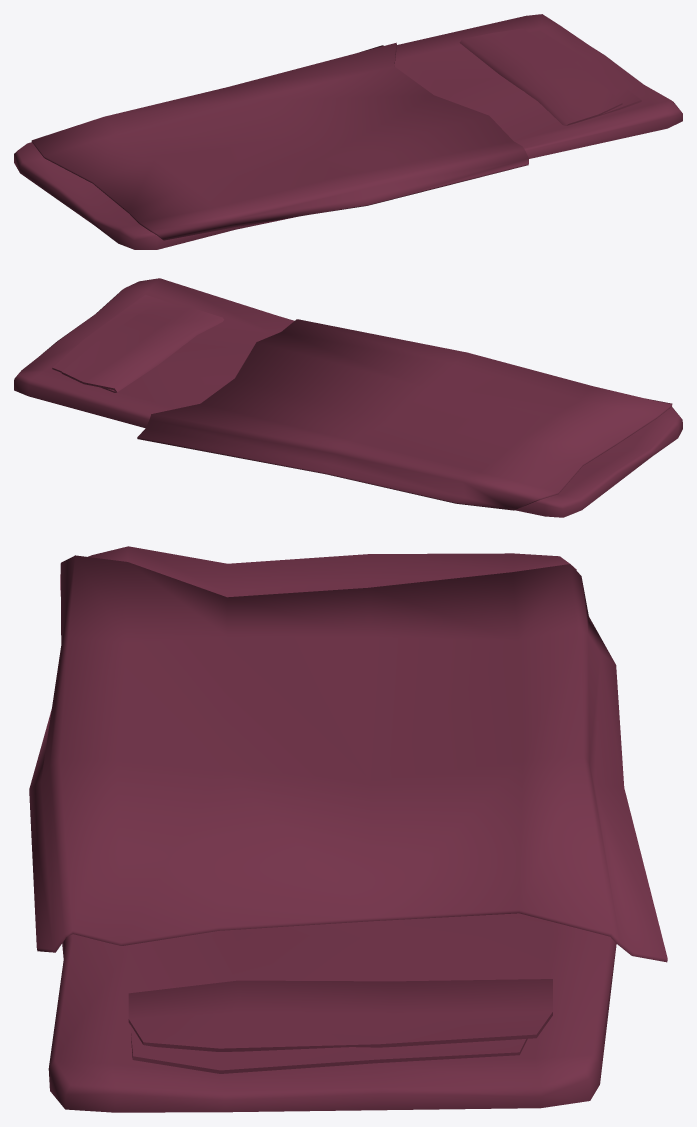
Rendered from mw_camp_tent_bed.FBX.
3 views of the same model, one above another, from view 1: azimuth 30°, elevation 25°; view 2: azimuth 150°, elevation 25°; view 3: azimuth 270°, elevation 25° (orthographic). The views are drawn at different scales.
Parts seen in each view (by area): view 1: mw_camp_tent_bed; view 2: mw_camp_tent_bed; view 3: mw_camp_tent_bed.
Part boxes in pixels (x1,y1,x2,y2): mw_camp_tent_bed: [14, 14, 682, 249]; mw_camp_tent_bed: [14, 278, 682, 517]; mw_camp_tent_bed: [29, 546, 667, 1112].
Bounding box in the file's own units: 279 × 9.95 × 139.
